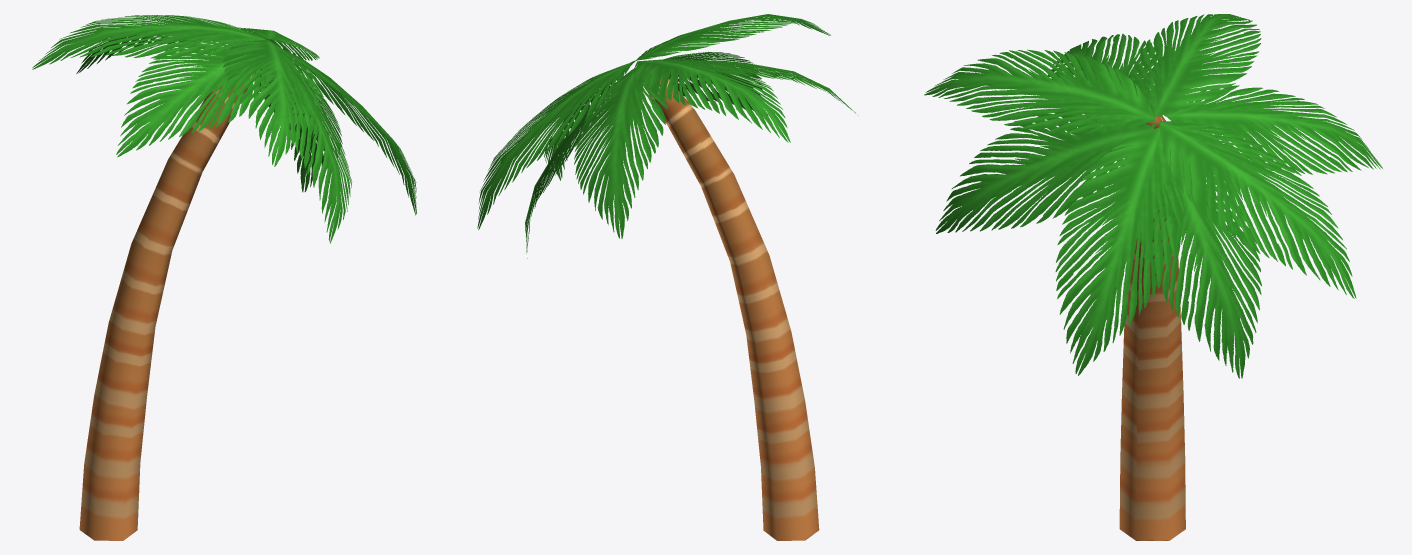
Rendered from Palm_Tree.fbx.
3 views of the same model, side by side, from view 1: azimuth 30°, elevation 25°; view 2: azimuth 150°, elevation 25°; view 3: azimuth 270°, elevation 25° (orthographic). The views are drawn at different scales.
Parts seen in each view (by area): view 1: Palm_Leaf, Palm Tree; view 2: Palm_Leaf, Palm Tree; view 3: Palm_Leaf, Palm Tree.
Part boxes in pixels (box(x1,y1,x2,y2)): Palm_Leaf: box(32, 15, 416, 243); Palm Tree: box(79, 47, 255, 540); Palm_Leaf: box(477, 14, 858, 258); Palm Tree: box(644, 69, 819, 540); Palm_Leaf: box(924, 14, 1382, 378); Palm Tree: box(1119, 115, 1185, 540).
Size of the model in its own units: 522 by 711 by 618.
